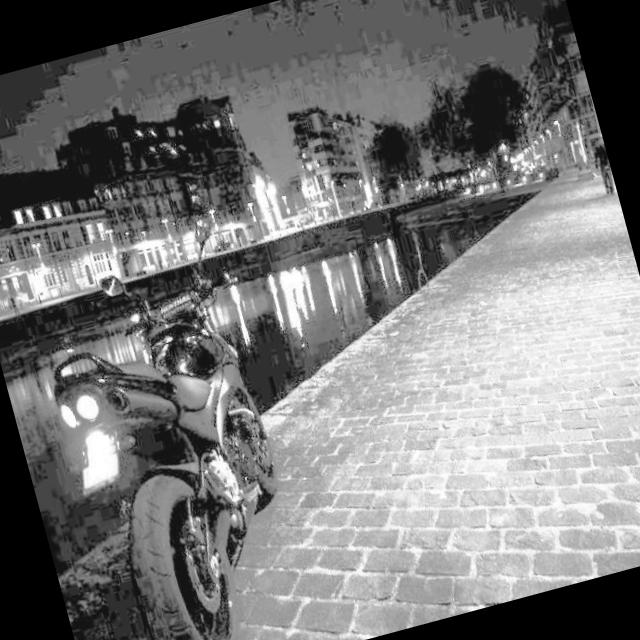Motorcycle: (0, 203, 353, 640)
